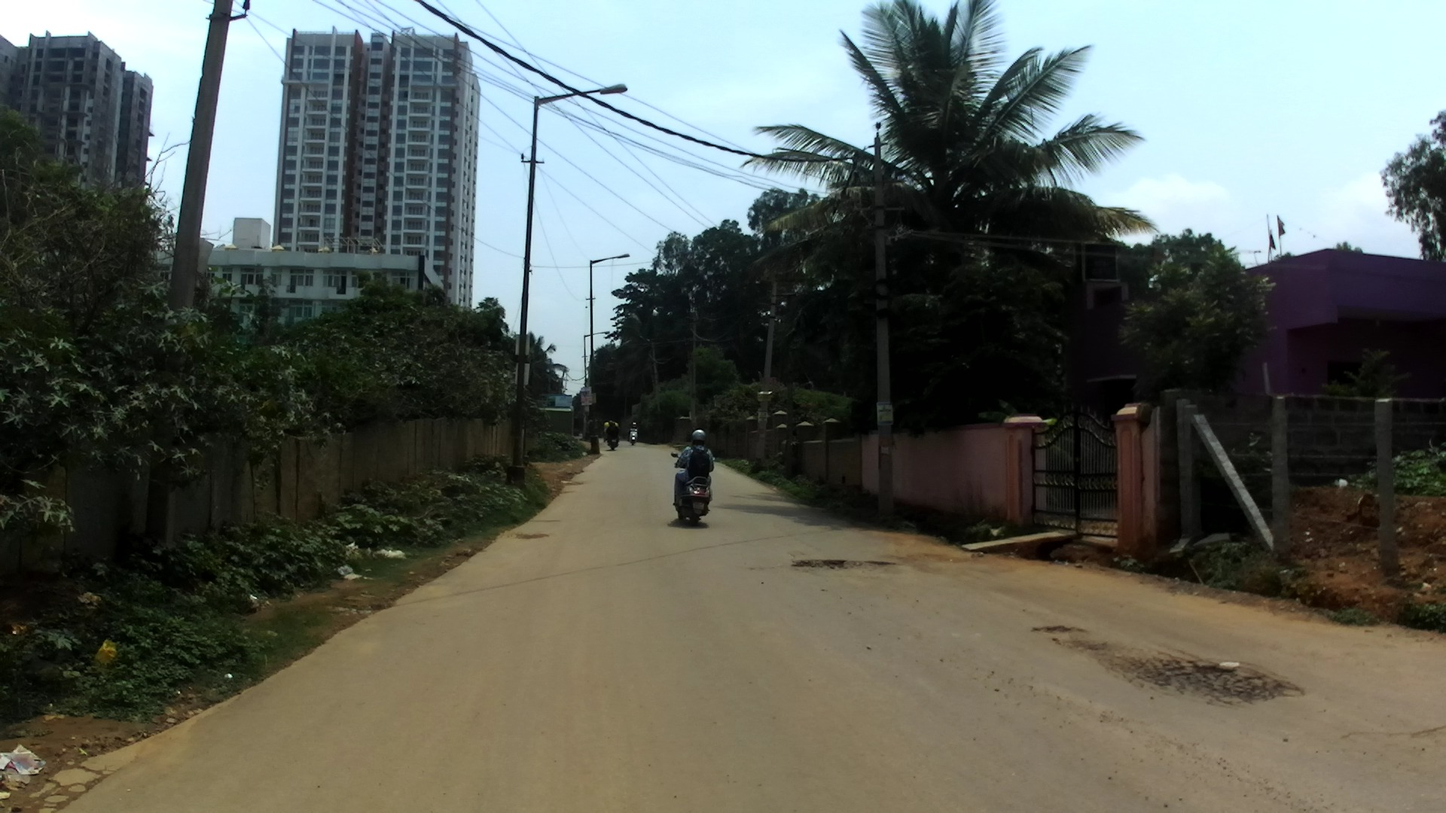autorickshaw: (602, 421, 618, 442)
motorcycle: (671, 452, 715, 527), (628, 429, 639, 446), (607, 437, 619, 451)
rider: (672, 429, 715, 505), (606, 420, 621, 446), (630, 422, 639, 430)
